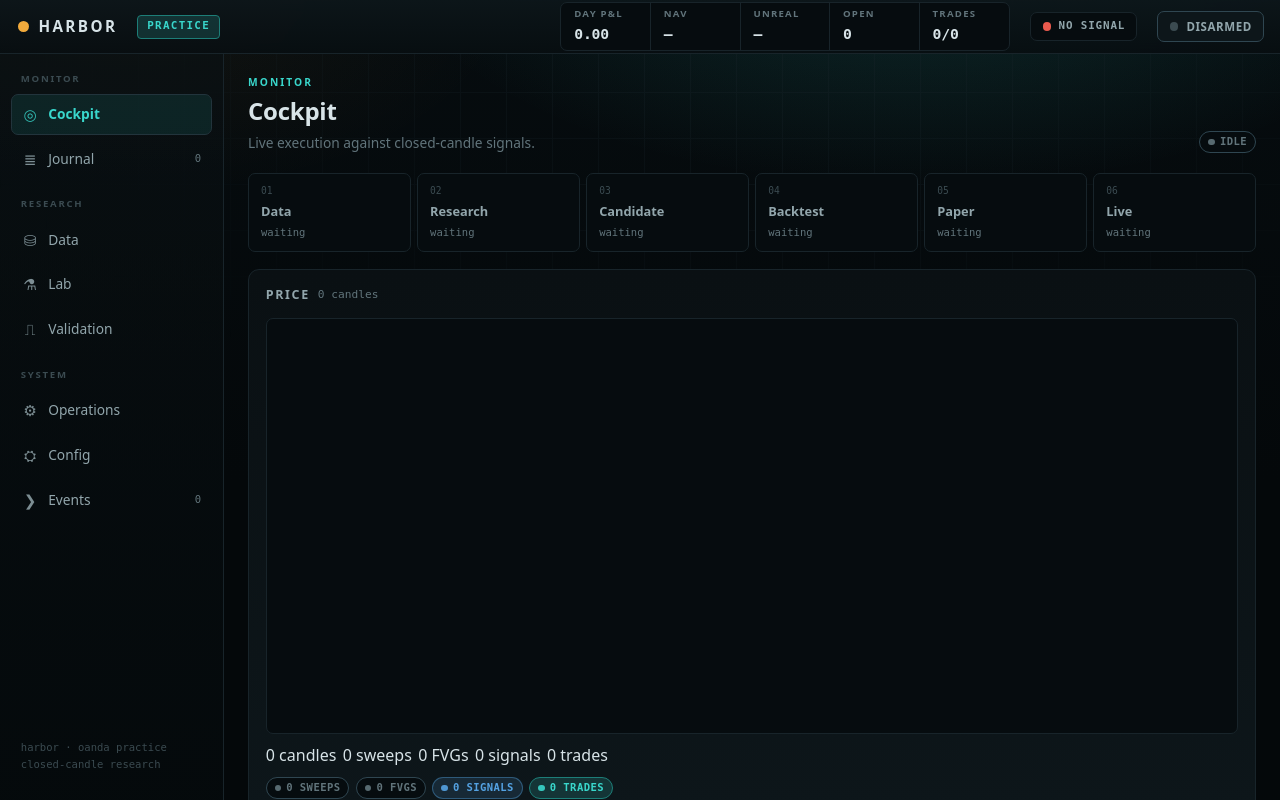
renders Lab as a secondary view and applies variant live envelopes
Expected: the heading "Cockpit" is shown, [248,94,337,127]
Click the button "⚗ Lab": (112, 285) [11,264,212,305]
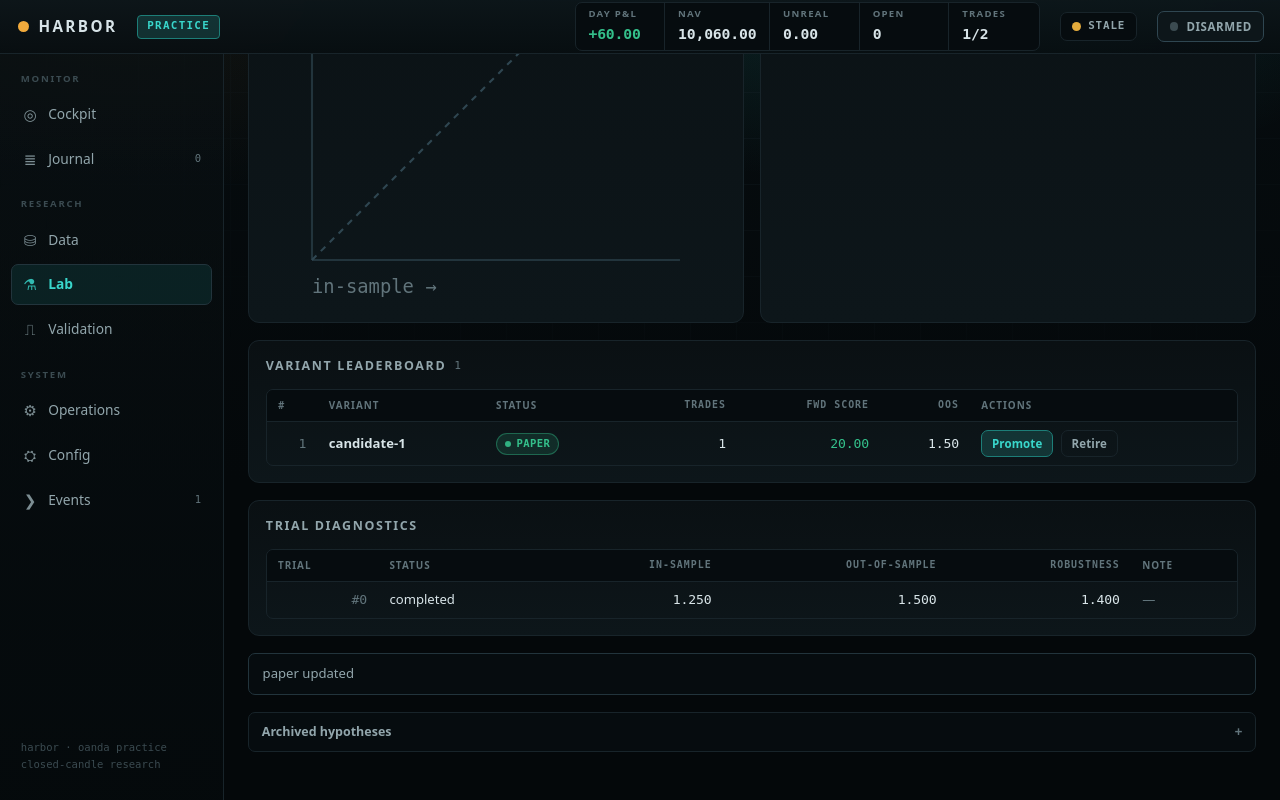
Expected: the element "Variant leaderboard" shows "candidate-1", [329,434,406,452]
Expected: the text "paper updated" is shown, [248,653,1256,695]
